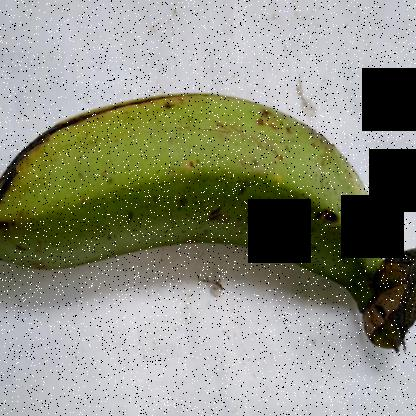unripe: (0, 65, 403, 306)
